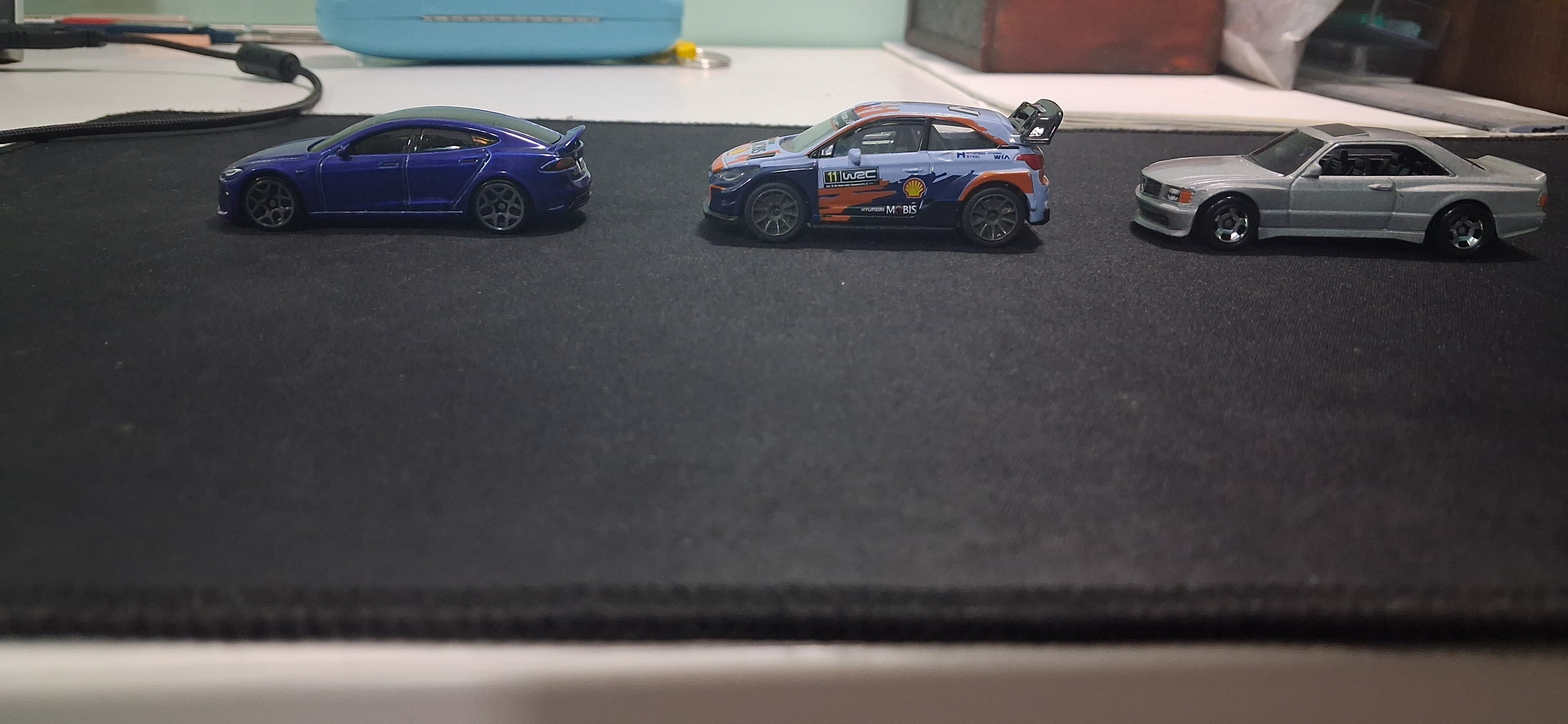Hyundai_I20_WRC: (668, 90, 1082, 279)
Mercedes_Benz_560_SEC_AMG: (1098, 91, 1555, 299)
Tesla_Model_S_Plaid: (192, 91, 613, 263)
